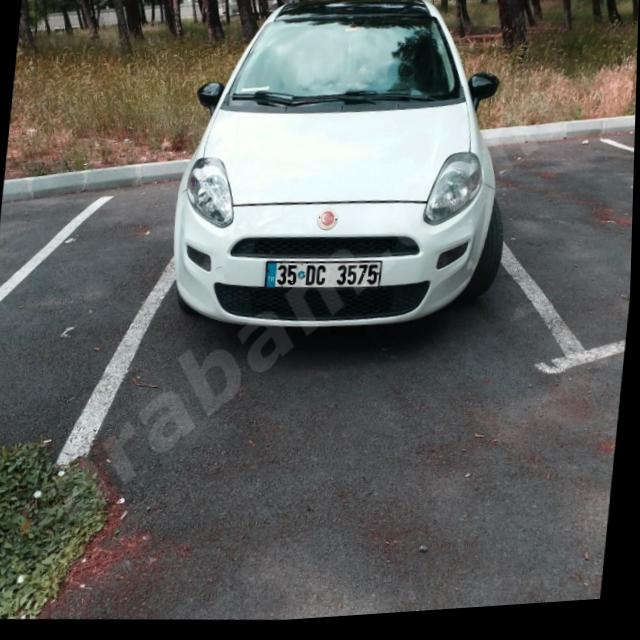license_plate: (266, 257, 384, 298)
